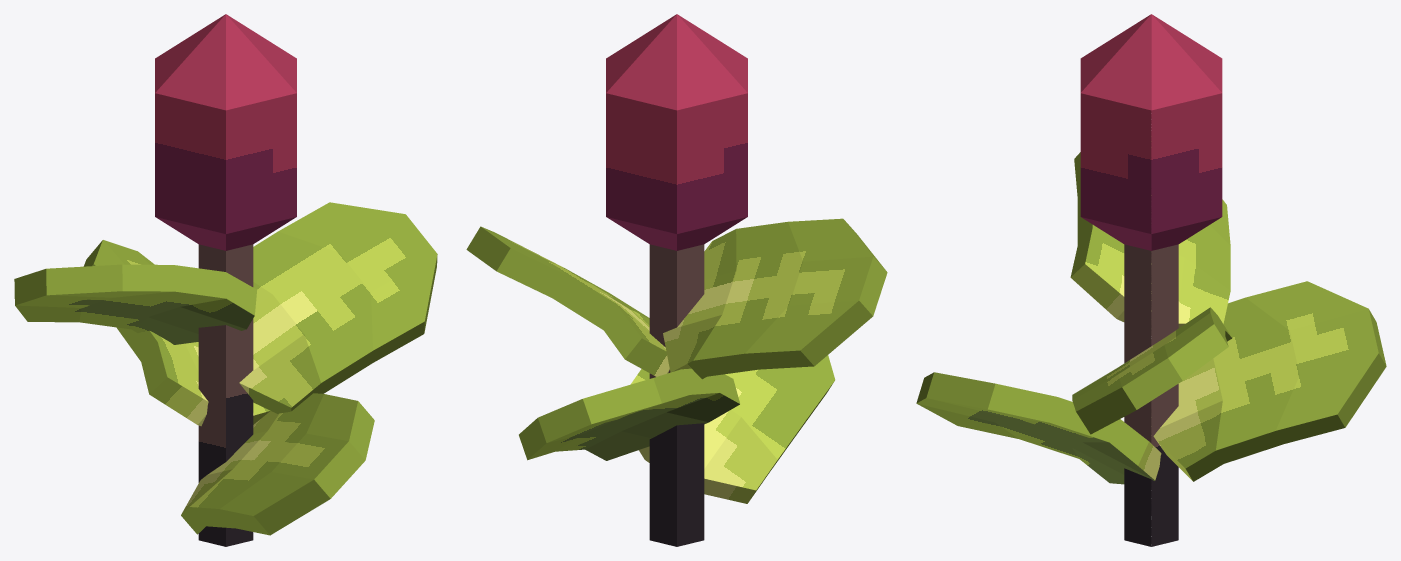
File: ancient_rose.gltf
3 renders of one model, left to right at view 1: azimuth 30°, elevation 25°; view 2: azimuth 150°, elevation 25°; view 3: azimuth 270°, elevation 25°, orthographic.
Visible parts, largest first — view 1: cube (×4), sphere, cylinder; view 2: cube (×4), sphere, cylinder; view 3: cube (×4), sphere, cylinder.
Boxes of the visible parts, bbox=[...] form: cube (×4): bbox=[14, 202, 437, 535]; sphere: bbox=[155, 14, 296, 250]; cylinder: bbox=[198, 244, 253, 546]; cube (×4): bbox=[466, 218, 887, 503]; sphere: bbox=[606, 14, 747, 250]; cylinder: bbox=[649, 244, 704, 546]; cube (×4): bbox=[916, 152, 1386, 484]; sphere: bbox=[1080, 14, 1222, 250]; cylinder: bbox=[1124, 244, 1178, 546].
Bounding box in the file's own units: 1.08 × 1.31 × 1.08.
1 material, 1 textured.
